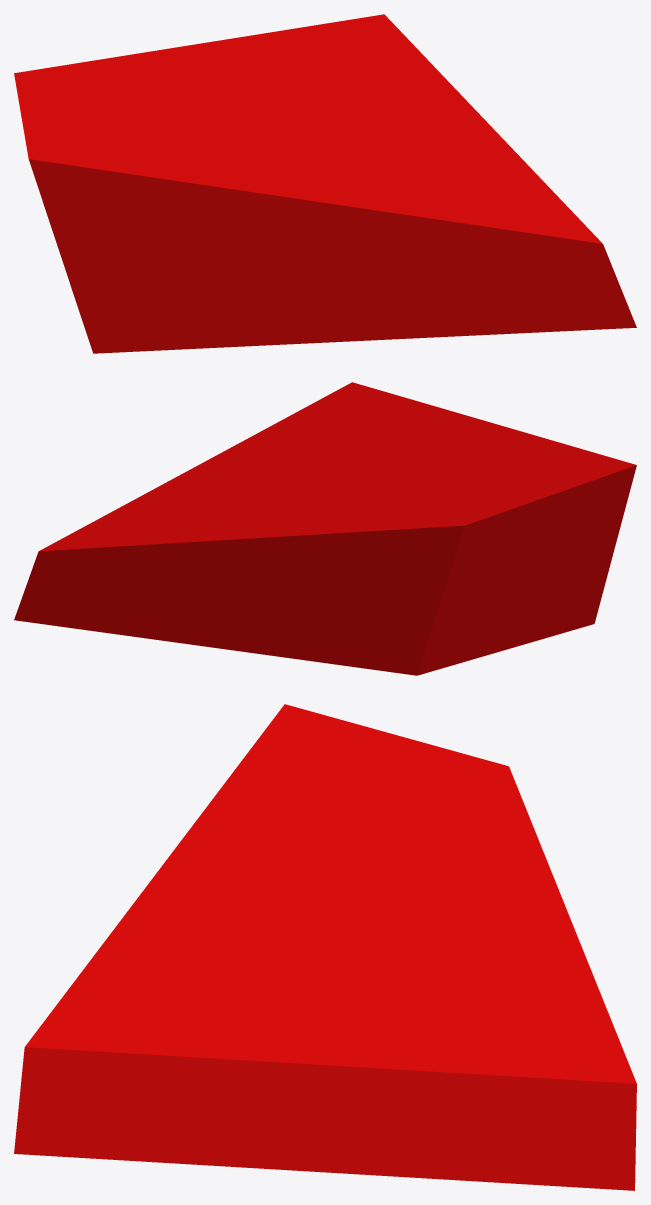
File: SM_Env_RoadPiece_Damaged_13_Collision.fbx
The picture shows the model from 3 angles, top to bottom: view 1: azimuth 30°, elevation 25°; view 2: azimuth 150°, elevation 25°; view 3: azimuth 270°, elevation 25°; orthographic projection. The views are drawn at different scales.
Parts seen in each view (by area): view 1: SM_Env_RoadPiece_Damaged_13_Collision; view 2: SM_Env_RoadPiece_Damaged_13_Collision; view 3: SM_Env_RoadPiece_Damaged_13_Collision.
Boxes of the visible parts, x1=… form: SM_Env_RoadPiece_Damaged_13_Collision: x1=14, y1=14, x2=636, y2=353; SM_Env_RoadPiece_Damaged_13_Collision: x1=14, y1=382, x2=636, y2=675; SM_Env_RoadPiece_Damaged_13_Collision: x1=14, y1=704, x2=636, y2=1190.
Bounding box in the file's own units: 184 × 64.63 × 171.
